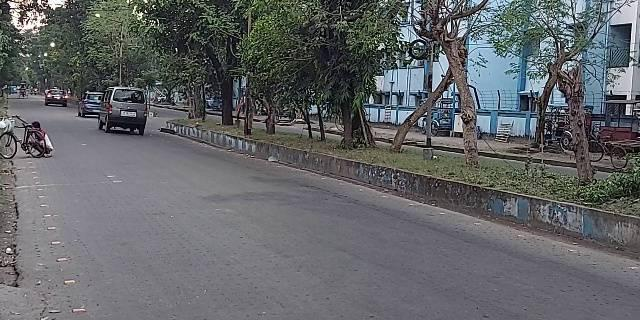Car: (76, 87, 102, 116), (44, 87, 68, 109)
Van: (96, 91, 151, 137)
